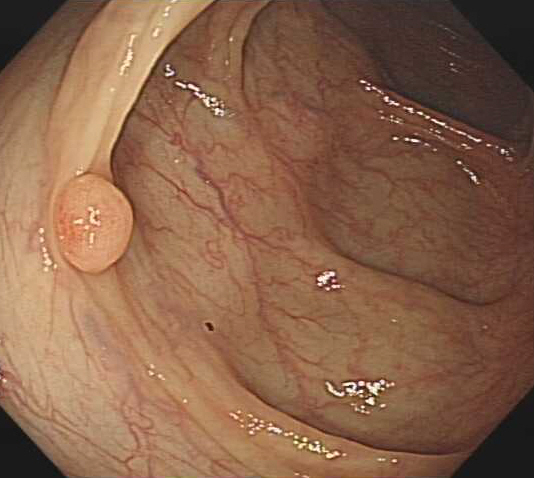others: (53, 169, 136, 275)
